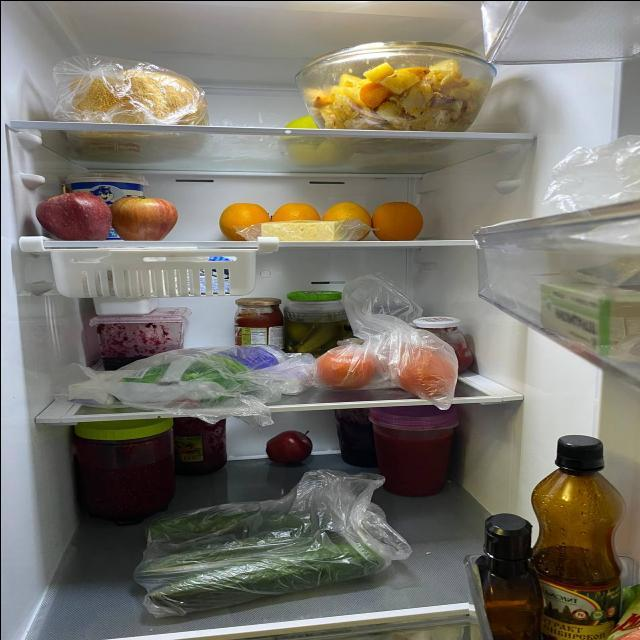Apple: (29, 192, 119, 235), (108, 191, 176, 235), (266, 430, 312, 458)
Cucumber: (115, 540, 389, 610), (132, 544, 368, 575), (154, 504, 352, 533)
Orange: (374, 198, 416, 240), (214, 200, 266, 233), (266, 200, 318, 219), (326, 203, 370, 218)
Tomato: (313, 346, 379, 386), (398, 349, 452, 393)
